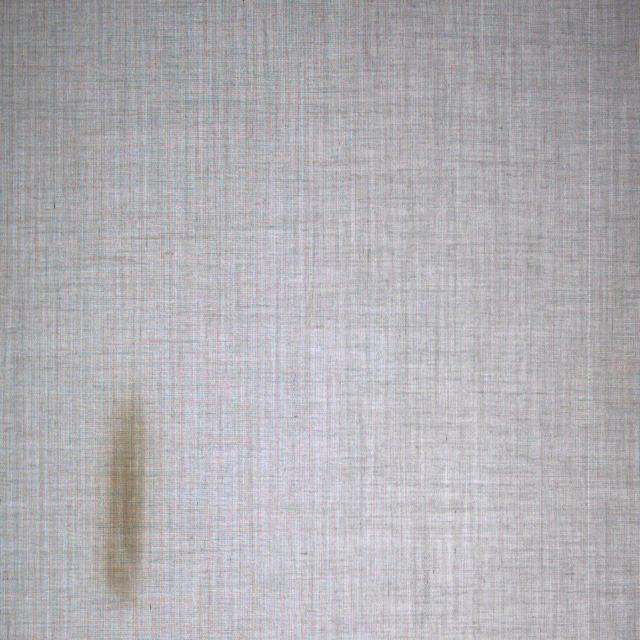dirty: (106, 394, 138, 594)
